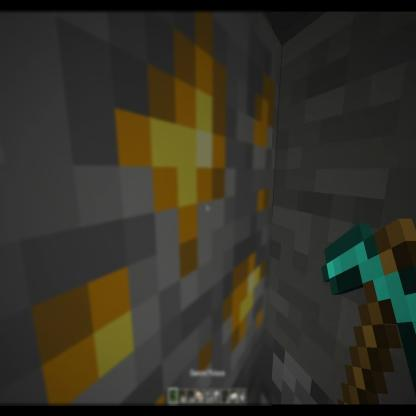gold ore: (0, 2, 272, 406)
